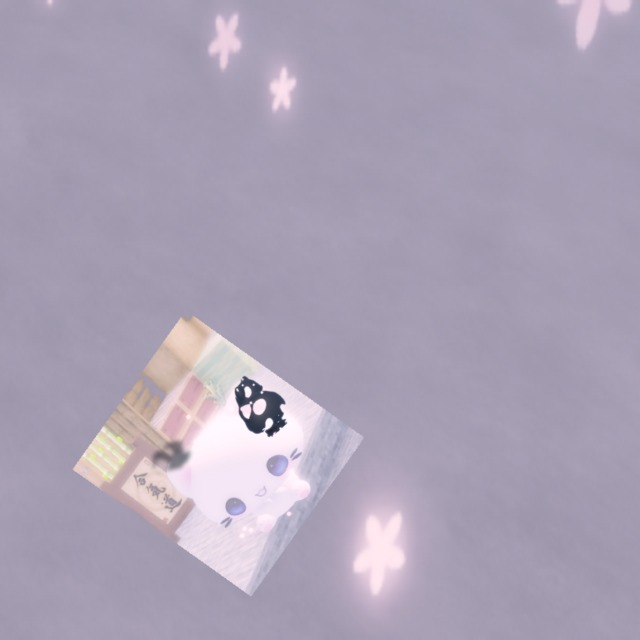urso_branco: (72, 310, 365, 597)
urso_preto: (215, 360, 301, 447), (140, 432, 202, 484)
